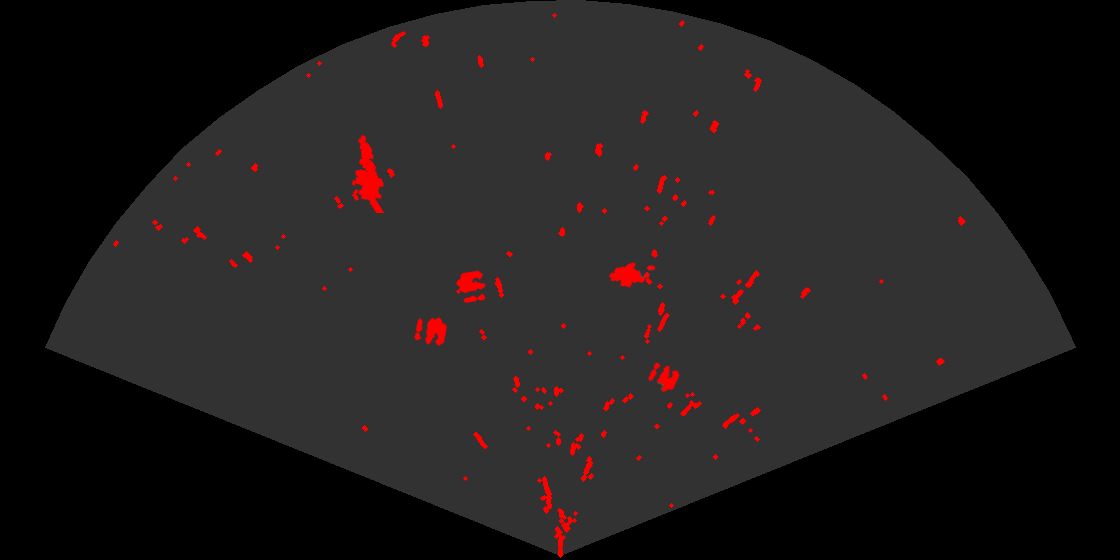AUV: (607, 261, 657, 289)
ball: (647, 361, 681, 394), (455, 269, 487, 304), (413, 316, 449, 347)
frogman: (350, 134, 386, 213)
